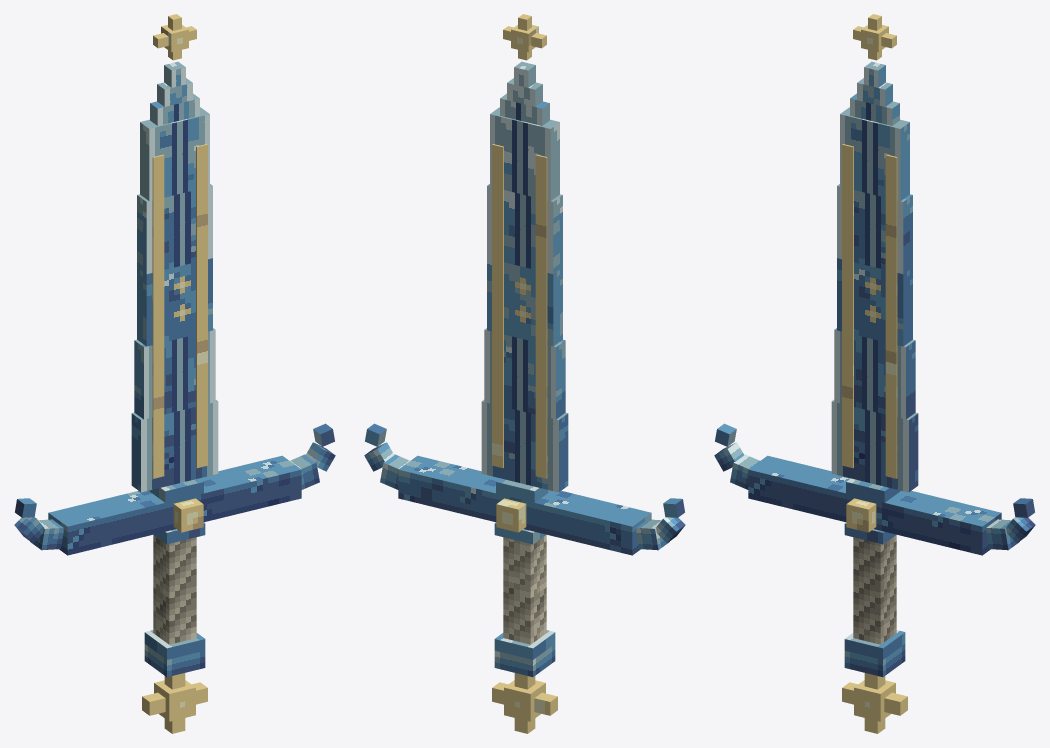
Rendered from stellarite_sword.glb.
The picture shows the model from 3 angles, left to right: view 1: azimuth 30°, elevation 25°; view 2: azimuth 150°, elevation 25°; view 3: azimuth 330°, elevation 25°; orthographic projection.
Visible parts, largest first — view 1: blade, guard_box, grip_box, blade_edge_left_glow, blade_edge_right_glow, guard, pommel_star_glow_core, pommel_cap, grip_ring_bottom, guard_gem_back_glow, guard_collar, tip_star_glow_core; view 2: blade, guard_box, grip_box, blade_edge_left_glow, blade_edge_right_glow, guard, pommel_star_glow_core, pommel_cap, grip_ring_bottom, guard_gem_glow, guard_collar, tip_star_glow_core; view 3: blade, guard_box, grip_box, blade_edge_right_glow, blade_edge_left_glow, guard, pommel_star_glow_core, pommel_cap, grip_ring_bottom, guard_gem_back_glow, guard_collar, tip_star_glow_core.
Boxes of the visible parts, x1,y1,x2,y2 form: blade: (131,61,218,492); guard_box: (48,455,301,555); grip_box: (153,535,196,644); blade_edge_left_glow: (152,154,164,478); blade_edge_right_glow: (196,144,207,468); guard: (14,423,335,550); pommel_star_glow_core: (154,680,195,721); pommel_cap: (144,644,205,676); grip_ring_bottom: (144,630,205,659); guard_gem_back_glow: (173,498,203,532); guard_collar: (149,478,203,502); tip_star_glow_core: (161,25,188,52); blade: (481,61,568,492); guard_box: (398,455,651,555); grip_box: (503,535,546,644); blade_edge_left_glow: (535,154,547,478); blade_edge_right_glow: (492,144,503,468); guard: (364,423,685,550); pommel_star_glow_core: (504,680,545,721); pommel_cap: (494,644,555,676); grip_ring_bottom: (494,630,555,659); guard_gem_glow: (496,498,526,532); guard_collar: (496,478,550,502); tip_star_glow_core: (511,25,538,52); blade: (831,61,918,492); guard_box: (748,455,1001,555); grip_box: (853,535,896,644); blade_edge_right_glow: (885,154,897,478); blade_edge_left_glow: (842,144,853,468); guard: (714,423,1035,550); pommel_star_glow_core: (854,680,895,721); pommel_cap: (844,644,905,676); grip_ring_bottom: (844,630,905,659); guard_gem_back_glow: (846,498,876,532); guard_collar: (846,478,900,502); tip_star_glow_core: (861,25,888,52).
Bounding box in the file's own units: 0.8863 × 1.93 × 0.1719.
1 material, 1 textured.
